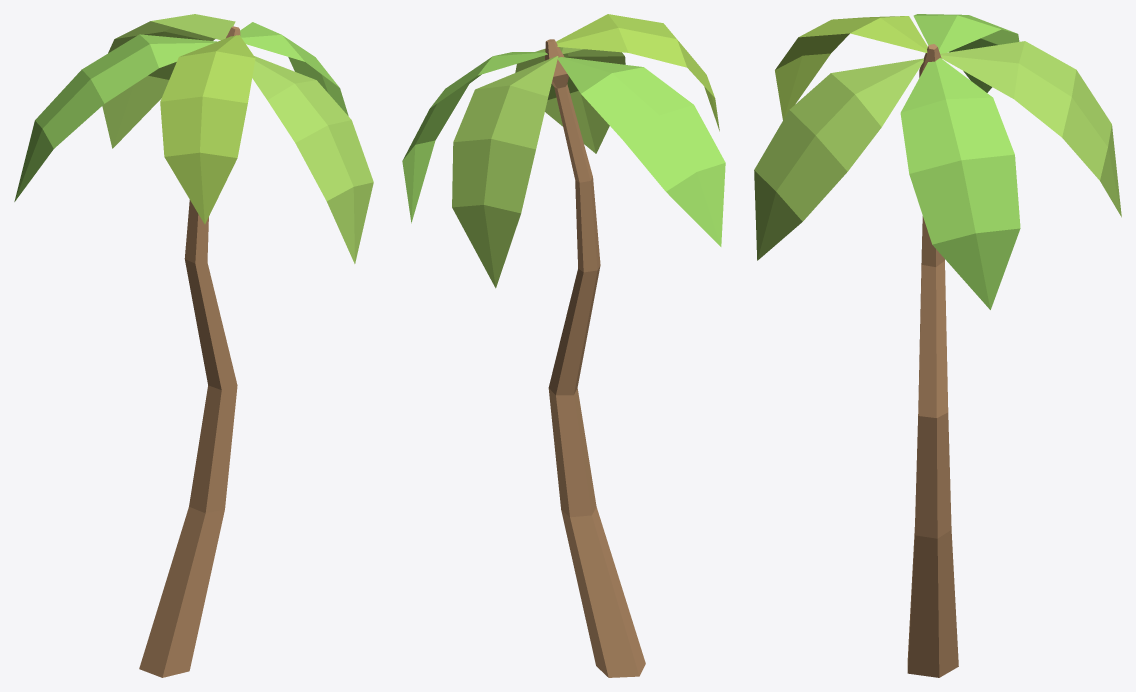
The model's file is Palm_Tree_OneSided_s_04_LOD.fbx.
3 renders of one model, left to right at view 1: azimuth 30°, elevation 25°; view 2: azimuth 150°, elevation 25°; view 3: azimuth 270°, elevation 25°, orthographic. The views are drawn at different scales.
Visible parts, largest first — view 1: Palm_Tree_OneSided_s_04_LOD0; view 2: Palm_Tree_OneSided_s_04_LOD0; view 3: Palm_Tree_OneSided_s_04_LOD0.
Part boxes in pixels (bbox=[...]): Palm_Tree_OneSided_s_04_LOD0: bbox=[14, 14, 373, 677]; Palm_Tree_OneSided_s_04_LOD0: bbox=[402, 14, 725, 677]; Palm_Tree_OneSided_s_04_LOD0: bbox=[754, 14, 1121, 677].
Size of what is drawn, in the model's own units: 243 by 462 by 232.
